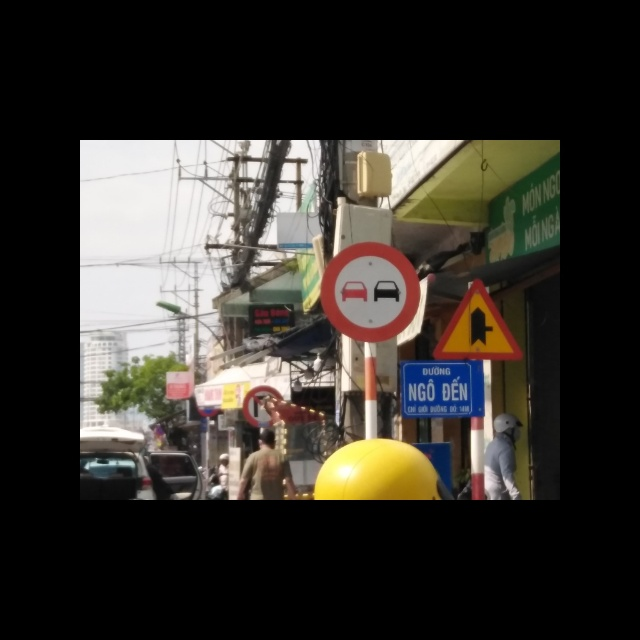Cấm vượt: (320, 242, 423, 343)
Giao nhau với đường không ưu tiên: (434, 277, 522, 359)
